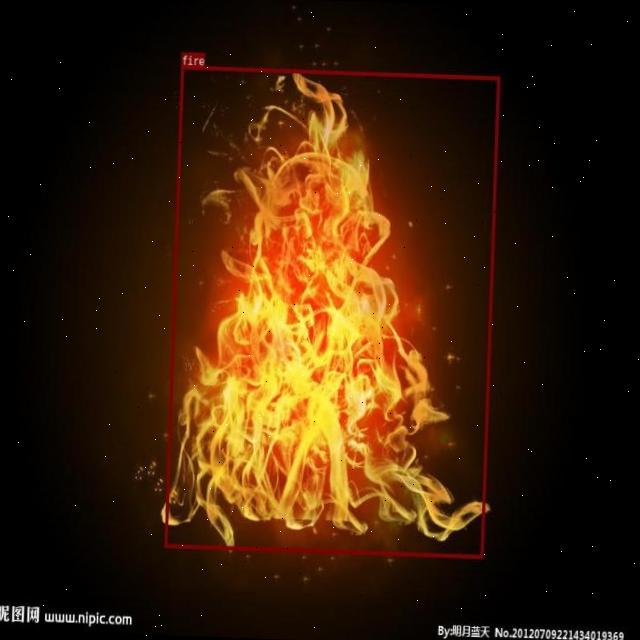fire: (164, 64, 500, 558)
